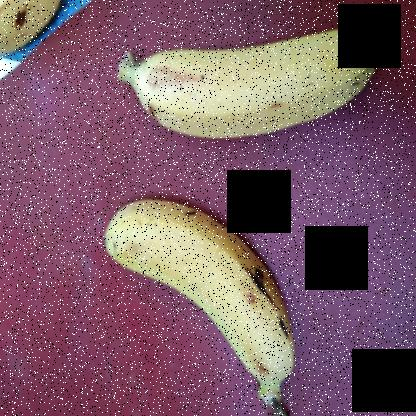freshripe: (122, 13, 385, 148)
ripe: (102, 189, 309, 395)
